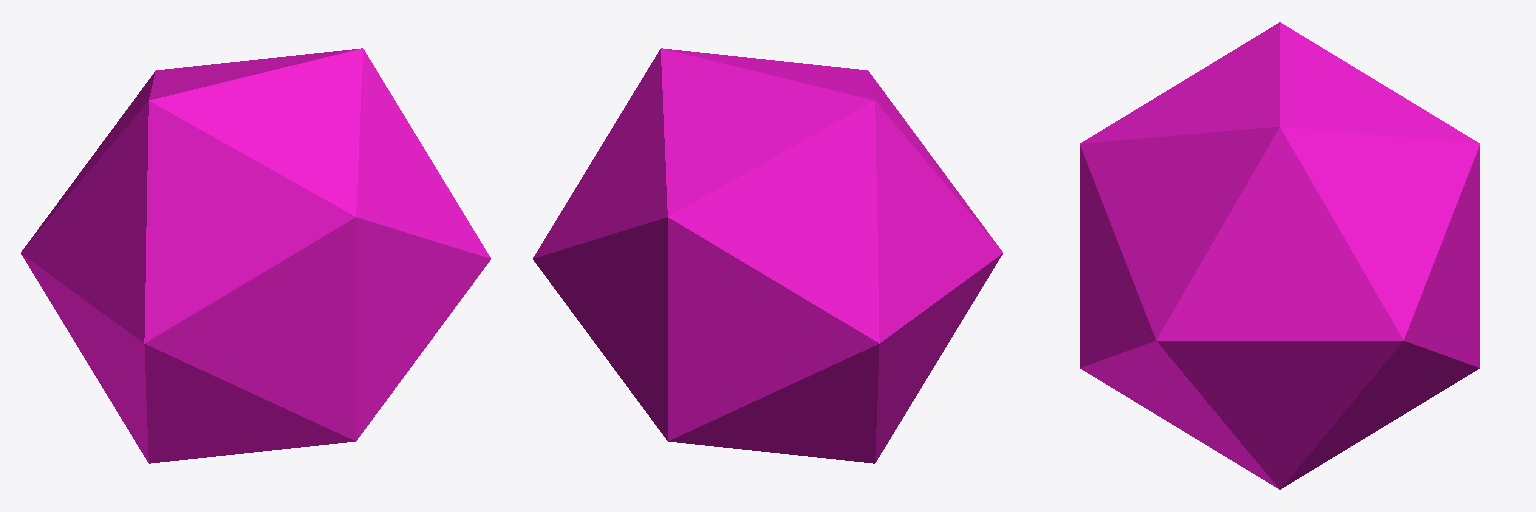
Rendered from starparticle3.obj.
3 views of the same model, side by side, from view 1: azimuth 30°, elevation 25°; view 2: azimuth 150°, elevation 25°; view 3: azimuth 270°, elevation 25° (orthographic).
Visible parts, largest first — view 1: Platonic; view 2: Platonic; view 3: Platonic.
Part boxes in pixels (x1,y1,x2,y2): Platonic: (21, 48, 490, 463); Platonic: (533, 48, 1002, 463); Platonic: (1080, 22, 1479, 489).
Size of the model in its own units: 114 by 114 by 114.